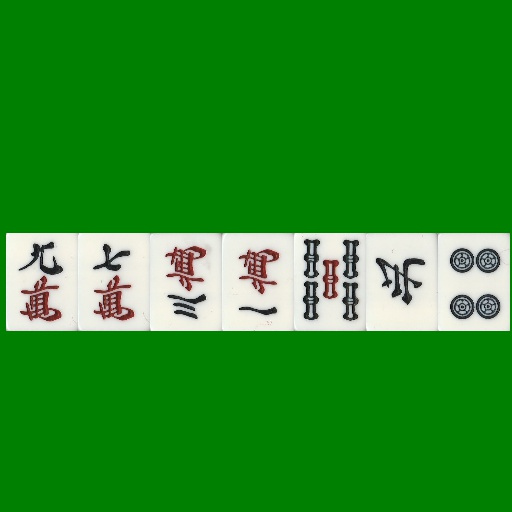1m: (222, 233, 294, 331)
3m: (150, 233, 222, 331)
4p: (438, 233, 510, 331)
5s: (294, 233, 366, 331)
7m: (78, 233, 150, 331)
9m: (6, 233, 78, 331)
north: (366, 233, 438, 331)
